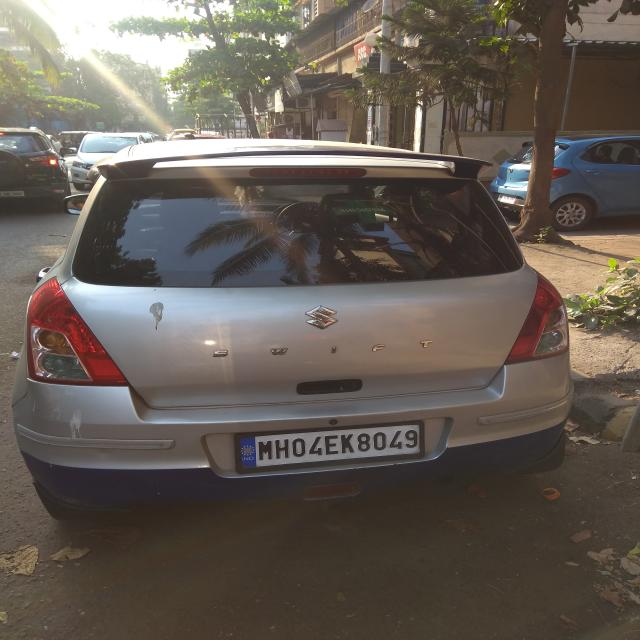Number-Plate: (238, 427, 424, 464)
